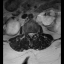CCS_normal: (30, 30, 32, 40)
LFS_stenosis: (34, 31, 35, 36)
LLS_normal: (32, 31, 34, 37)
RFS_severe_stenosis: (26, 31, 28, 37)
RLS_normal: (28, 31, 30, 37)
